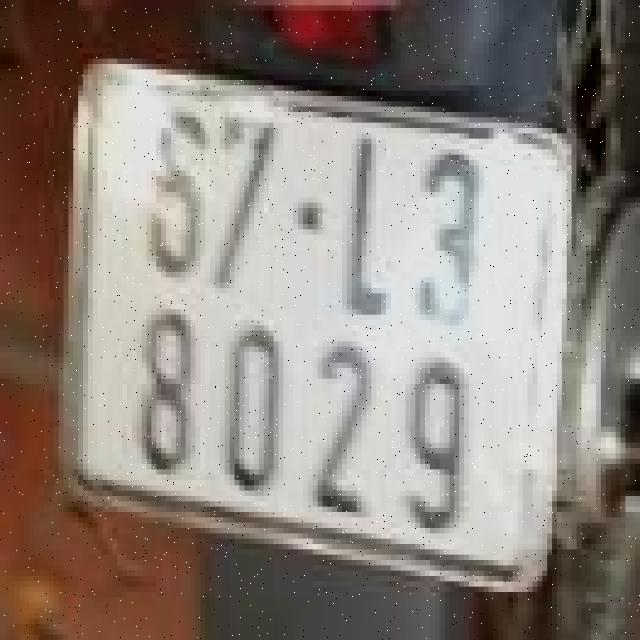0: (222, 312, 286, 504)
2: (308, 328, 376, 531)
3: (406, 139, 494, 336)
6: (144, 101, 218, 278)
7: (217, 106, 281, 298)
8: (127, 291, 205, 504)
9: (398, 352, 467, 560)
L: (332, 128, 401, 325)
